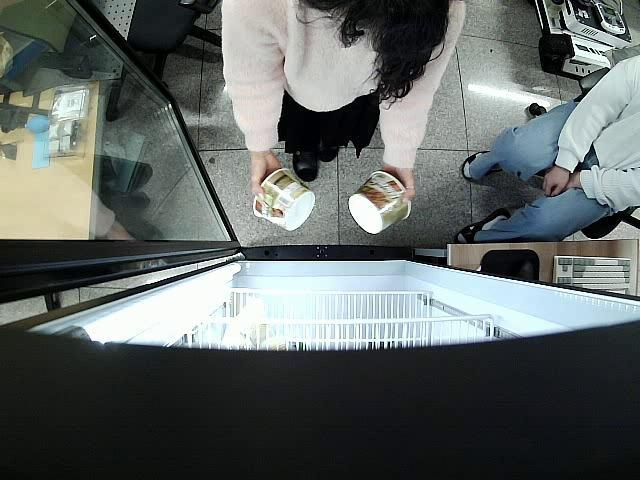03_chapagetti_L: (345, 172, 411, 236), (251, 169, 315, 232)
